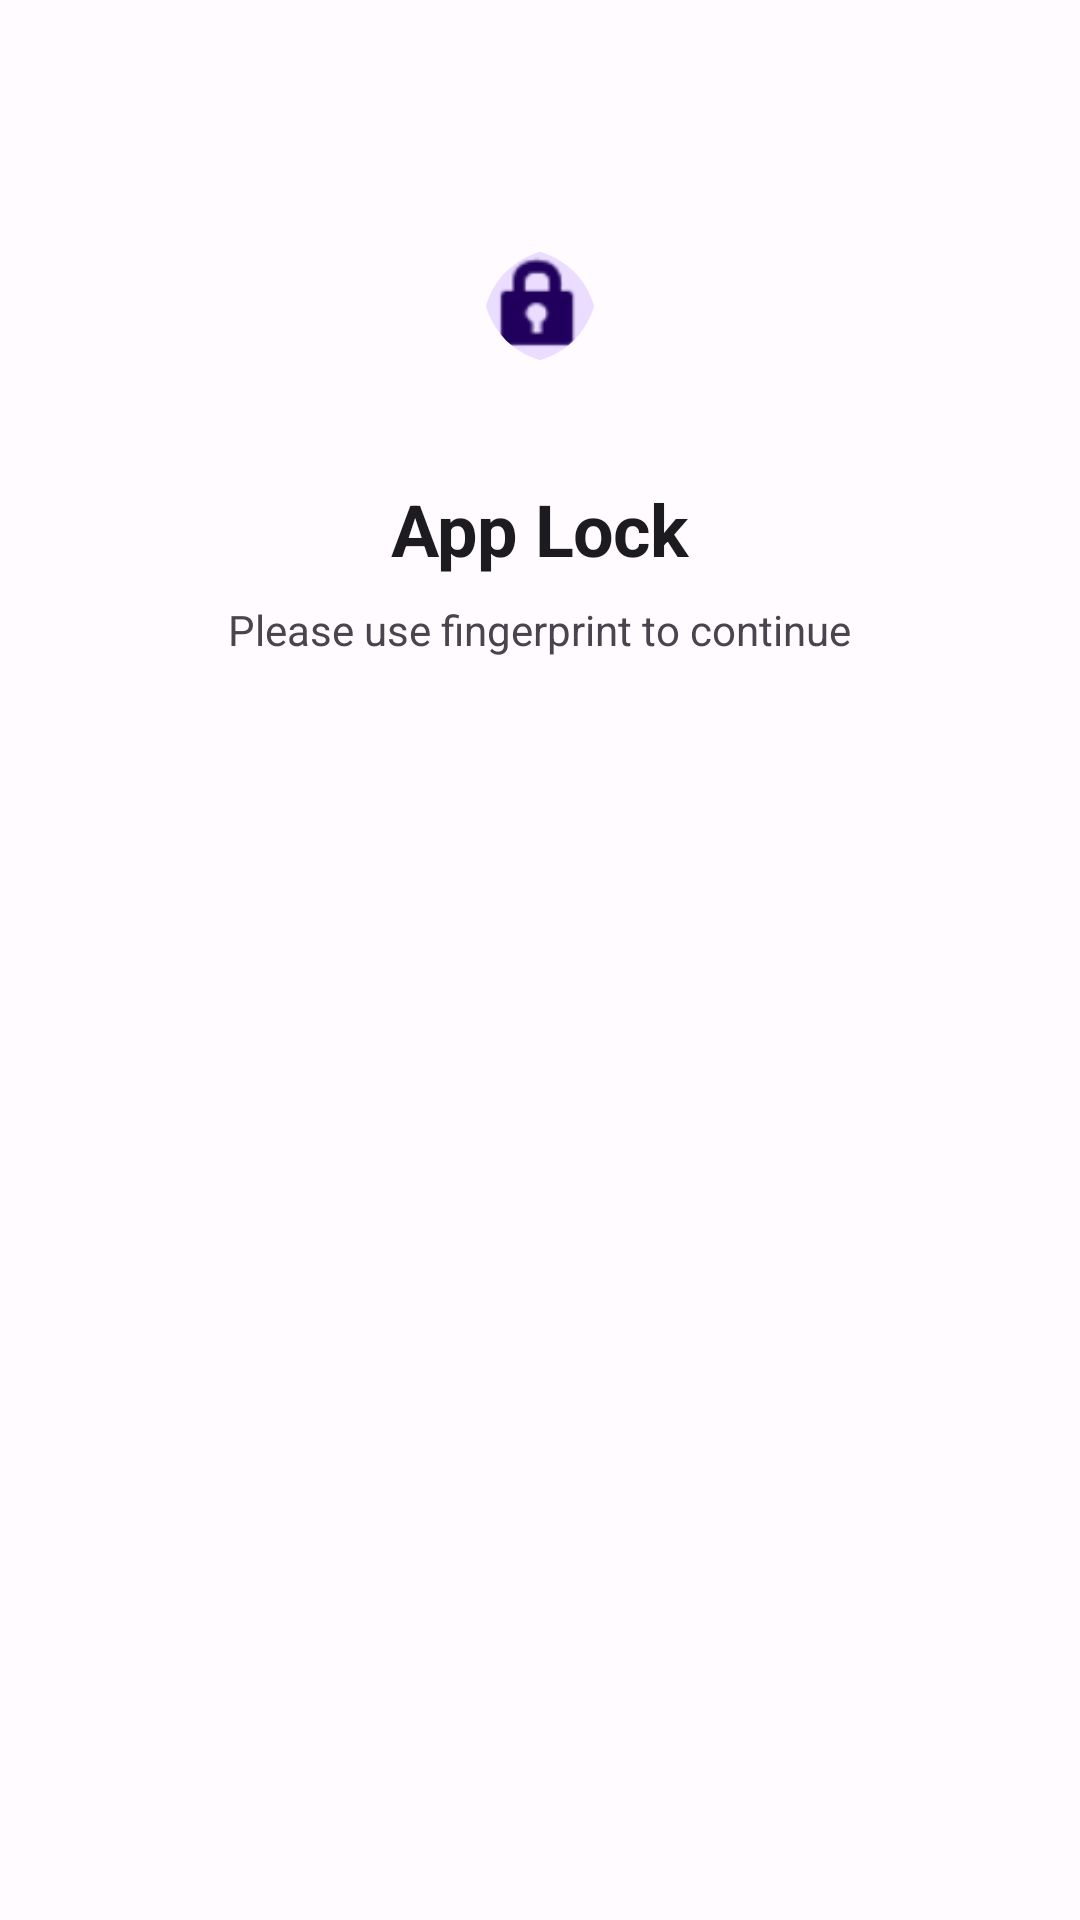

Named icons in this screenshot (1080px×1920px) and their bounding boxes, (left=x1, top=y1, right=x2, bottom=y2):
lock idle: (left=486, top=252, right=594, bottom=360)
